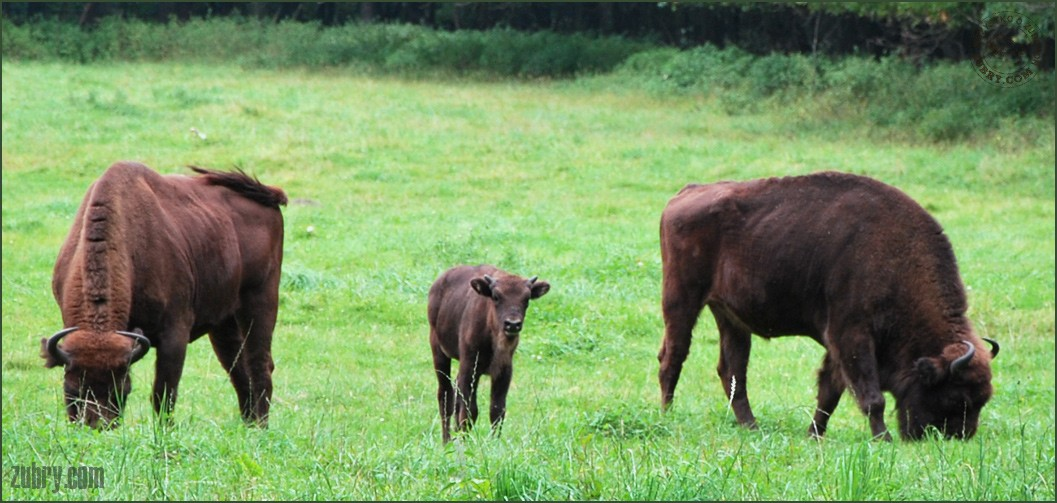zubr: (631, 144, 1031, 478), (13, 124, 325, 444), (389, 230, 563, 458)
